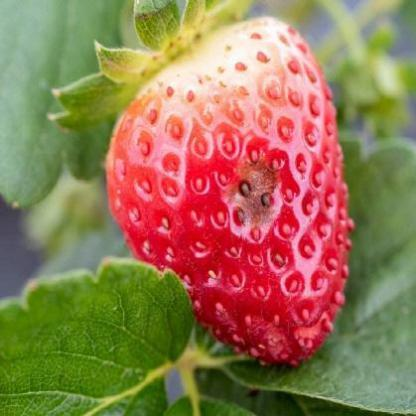Strawberry_Anthracnose_Fruit_Rot: (212, 137, 300, 241)
